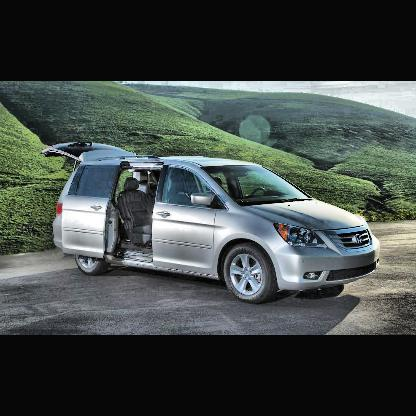Honda Odyssey Minivan 2007: (40, 140, 383, 307)
